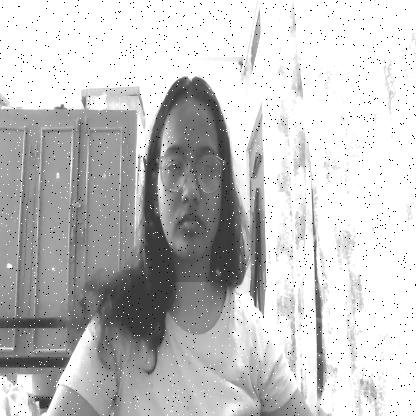Normal: (145, 70, 230, 282)
